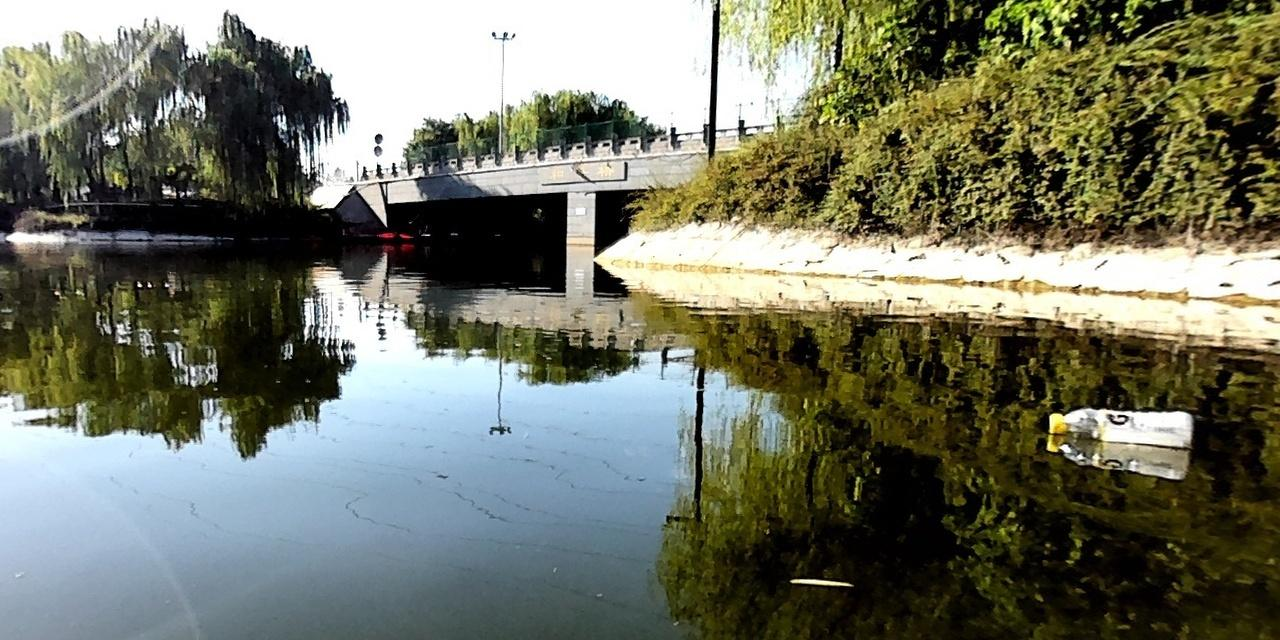bottle: (1049, 404, 1190, 448)
